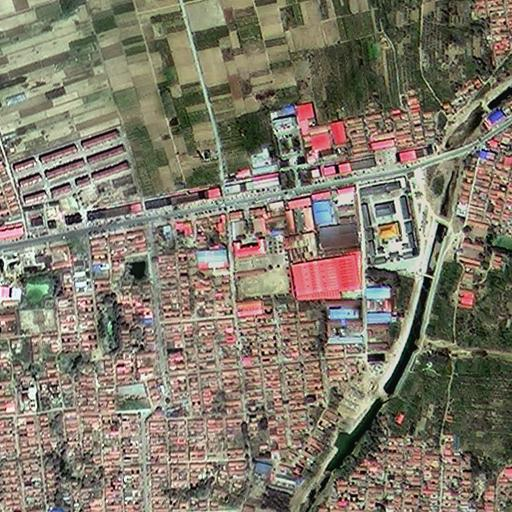school: (228, 202, 290, 300)
